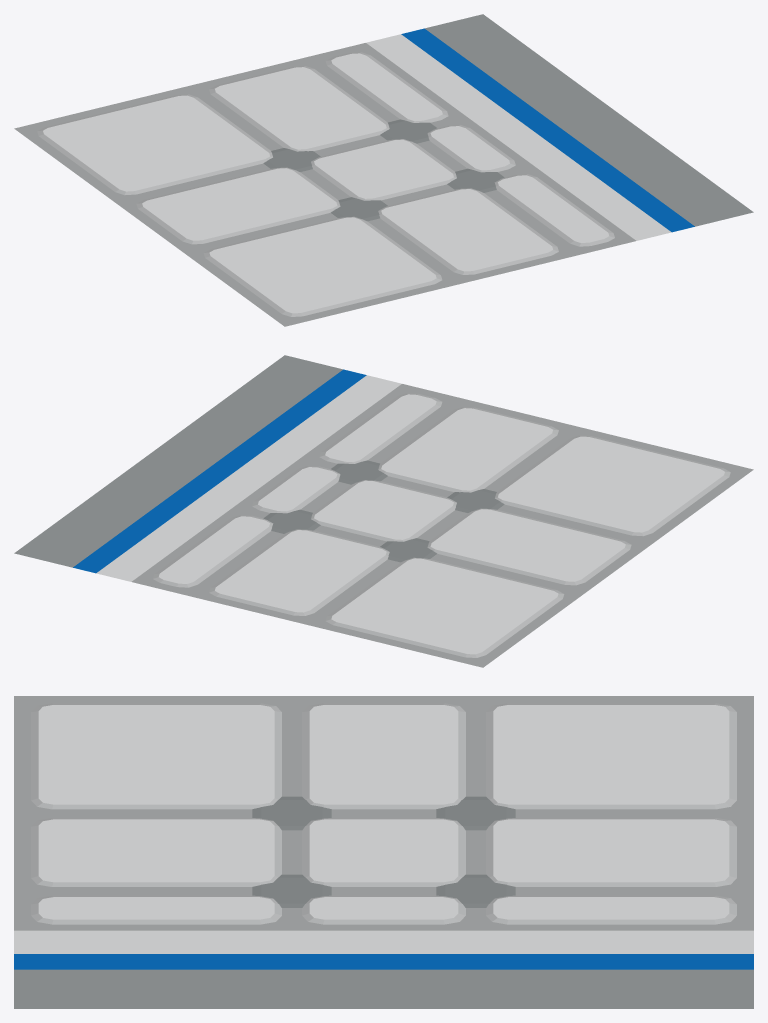
File: Floor_type_A_013.fbx
3 renders of one model, top to bottom at view 1: azimuth 30°, elevation 25°; view 2: azimuth 150°, elevation 25°; view 3: azimuth 270°, elevation 25°, orthographic. The views are drawn at different scales.
Parts seen in each view (by area): view 1: Floor_type_A_013; view 2: Floor_type_A_013; view 3: Floor_type_A_013.
Boxes of the visible parts, box(x1,y1,x2,y2) form: Floor_type_A_013: box(14, 14, 753, 326); Floor_type_A_013: box(14, 355, 753, 667); Floor_type_A_013: box(14, 696, 753, 1008).
Bounding box in the file's own units: 400 × 400 × 1.34.
